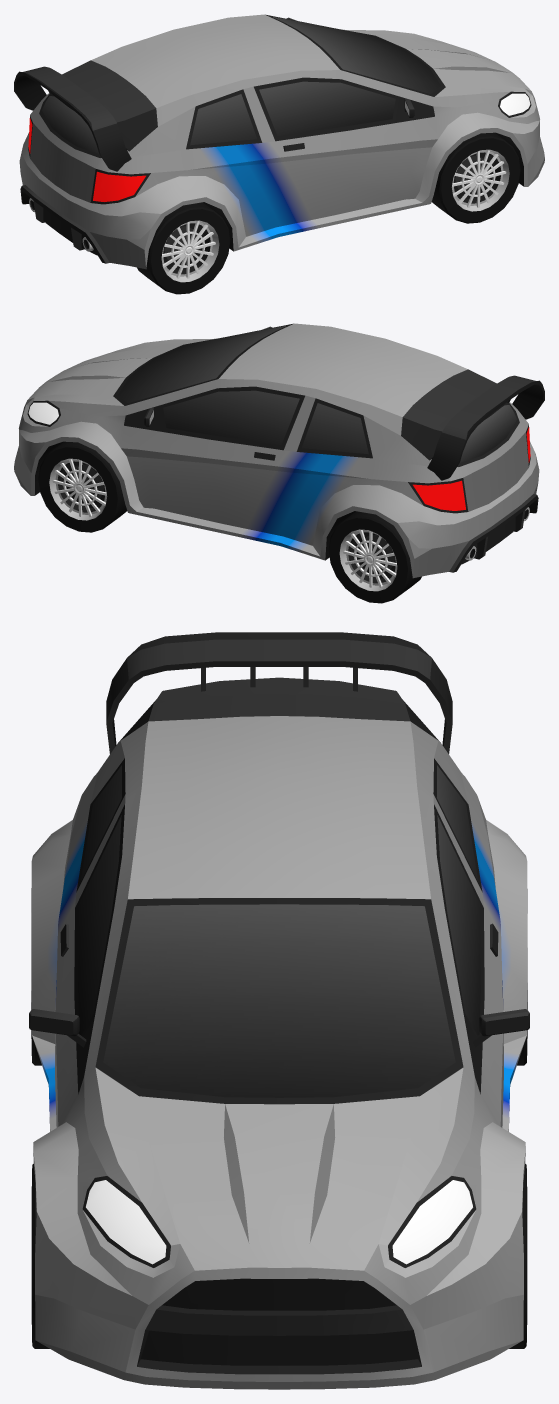
File: RaceCar_103.glb
3 renders of one model, top to bottom at view 1: azimuth 30°, elevation 25°; view 2: azimuth 150°, elevation 25°; view 3: azimuth 270°, elevation 25°, orthographic. The views are drawn at different scales.
Parts seen in each view (by area): view 1: RaceCar_103, wheel_1_RaceCar_103_Wheel_1R, wheel_3_RaceCar_103_Wheel_2R; view 2: RaceCar_103, wheel_0_RaceCar_103_Wheel_1L, wheel_2_RaceCar_103_Wheel_2L; view 3: RaceCar_103, wheel_0_RaceCar_103_Wheel_1L, wheel_1_RaceCar_103_Wheel_1R.
Boxes of the visible parts, x1=… form: RaceCar_103: x1=14, y1=14, x2=544, y2=269; wheel_1_RaceCar_103_Wheel_1R: x1=431, y1=132, x2=520, y2=223; wheel_3_RaceCar_103_Wheel_2R: x1=137, y1=202, x2=230, y2=294; RaceCar_103: x1=14, y1=323, x2=544, y2=578; wheel_0_RaceCar_103_Wheel_1L: x1=38, y1=441, x2=127, y2=532; wheel_2_RaceCar_103_Wheel_2L: x1=328, y1=511, x2=421, y2=603; RaceCar_103: x1=29, y1=632, x2=529, y2=1389; wheel_0_RaceCar_103_Wheel_1L: x1=509, y1=1163, x2=527, y2=1348; wheel_1_RaceCar_103_Wheel_1R: x1=31, y1=1163, x2=49, y2=1348.
Size of the model in its own units: 4.06 by 1.48 by 1.89.
Materials: 2 (2 with a texture image).
